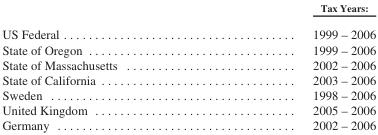table: (1, 1, 375, 132)
table column: (1, 1, 214, 132), (214, 1, 375, 132)
table column header: (1, 1, 375, 20)
table row: (1, 20, 375, 41), (1, 1, 375, 20), (1, 56, 375, 72), (1, 41, 375, 56), (1, 72, 375, 87), (1, 87, 375, 102), (1, 102, 375, 117), (1, 117, 375, 132)
